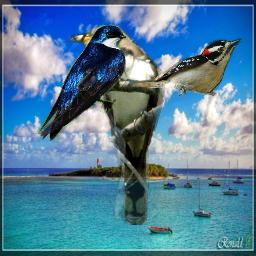Cuckoo: (68, 25, 165, 225)
Swallow: (37, 25, 128, 141)
Woodpecker: (133, 36, 242, 98)
